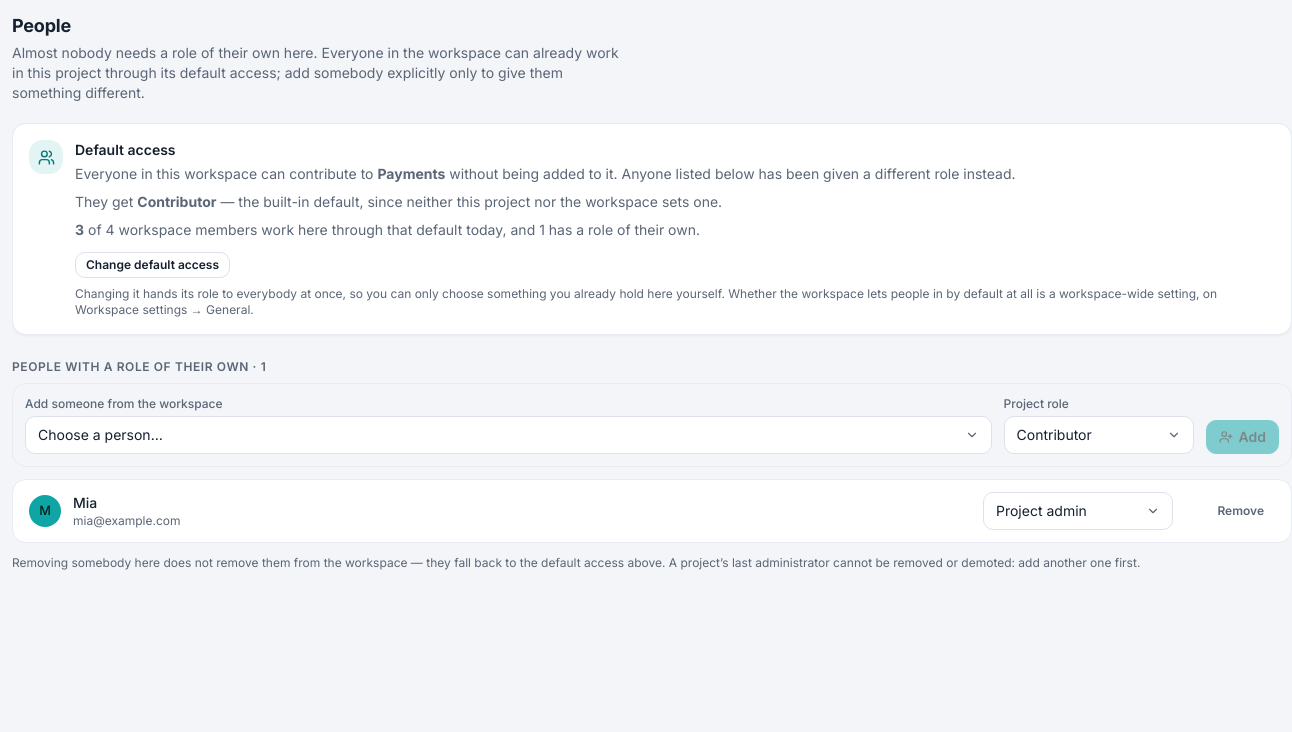
Scenario: ProjectPeoplePage — explicit membership › renders the last-administrator 409 on the row that caused it
Expected: the text "Mia" is shown, x1=73 y1=493 x2=97 y2=513
Click the button with aria-label "Project role for Mia": coordinates (1078, 511) x1=983 y1=492 x2=1173 y2=530
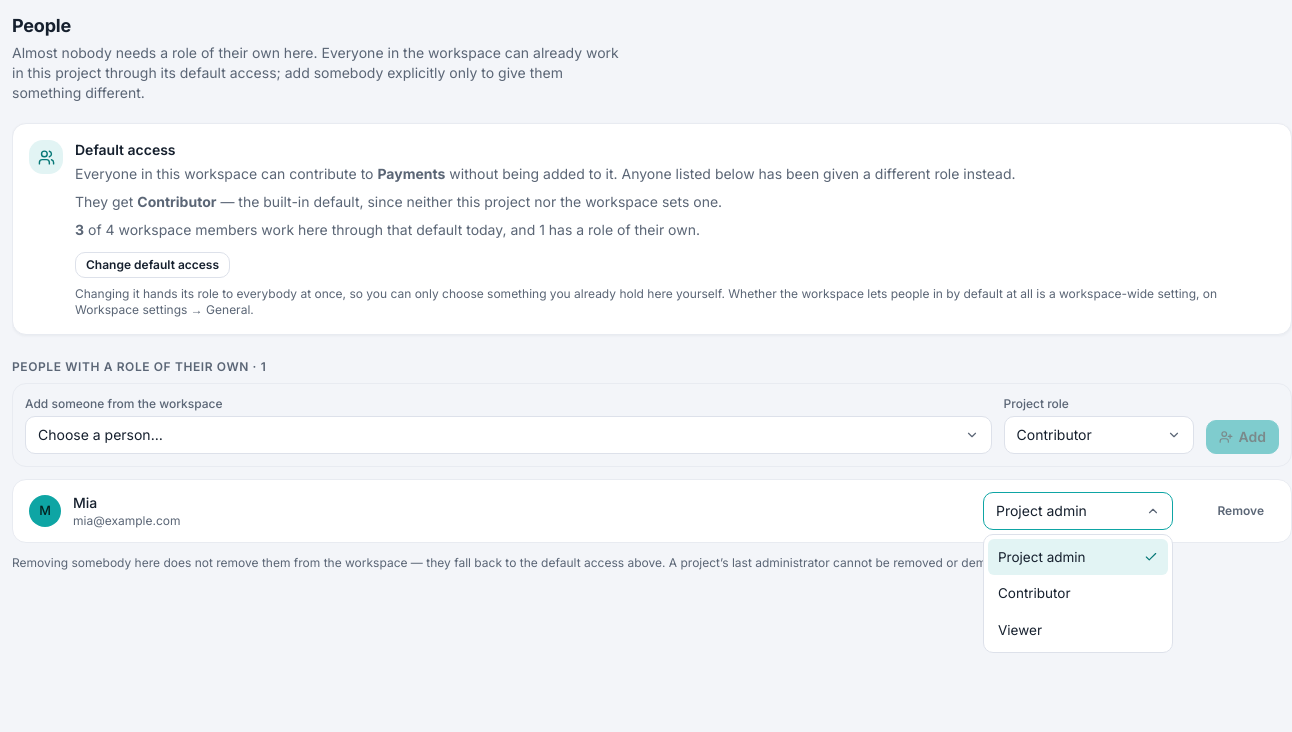
Click the option "Viewer": coordinates (1020, 630) x1=998 y1=622 x2=1042 y2=638
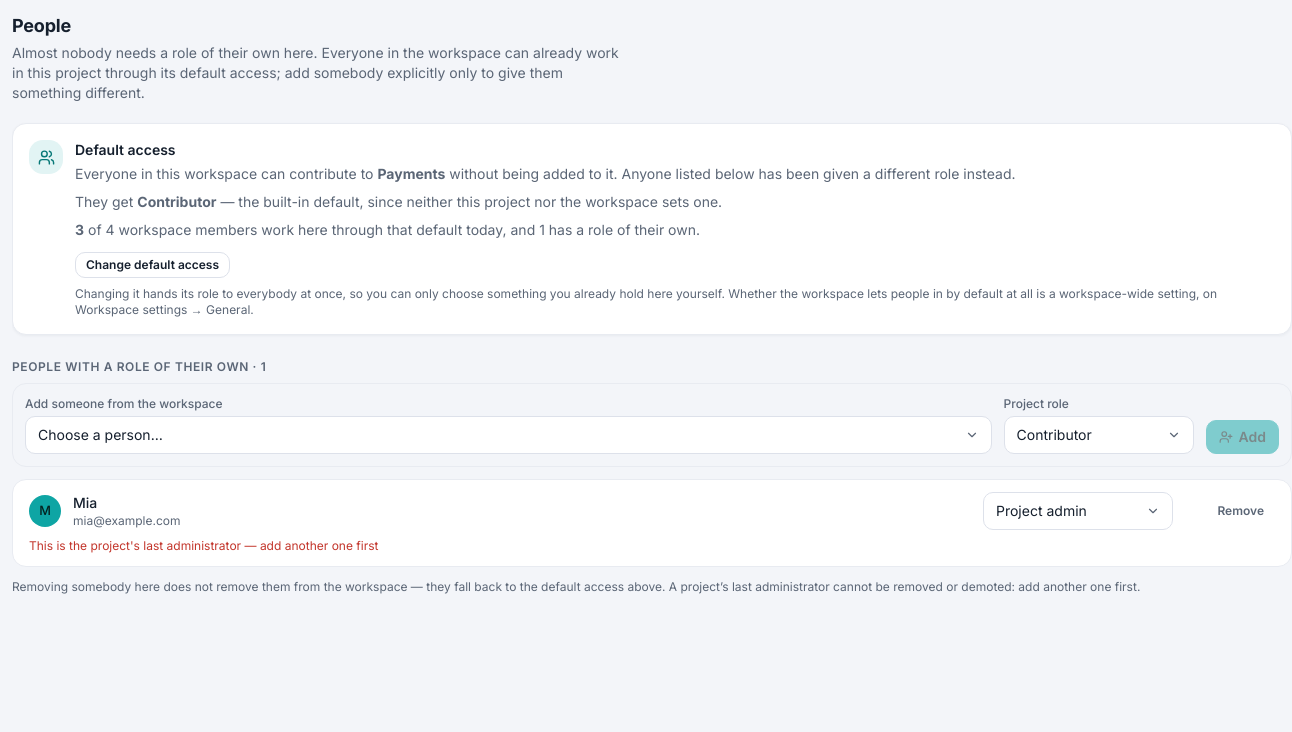
Expected: the text "This is the project's last administrator" is shown, x1=29 y1=538 x2=378 y2=553
